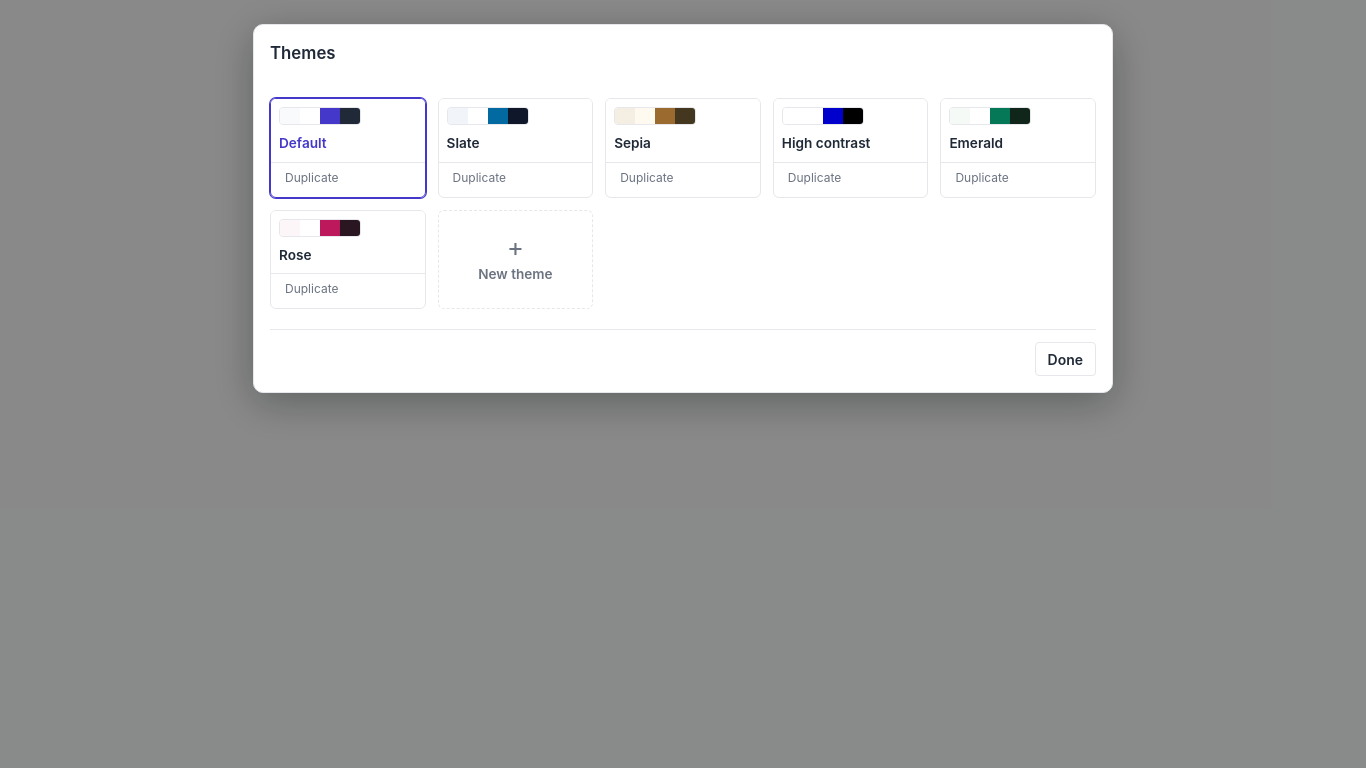
ThemePickerModal › opens the editor when New theme is clicked
The width and height of the screenshot is (1366, 768).
What coordinates should you click on to do the following:
click the button "+ New theme"
I would click on:
 (515, 259)
Its box is x1=438 y1=210 x2=593 y2=309.
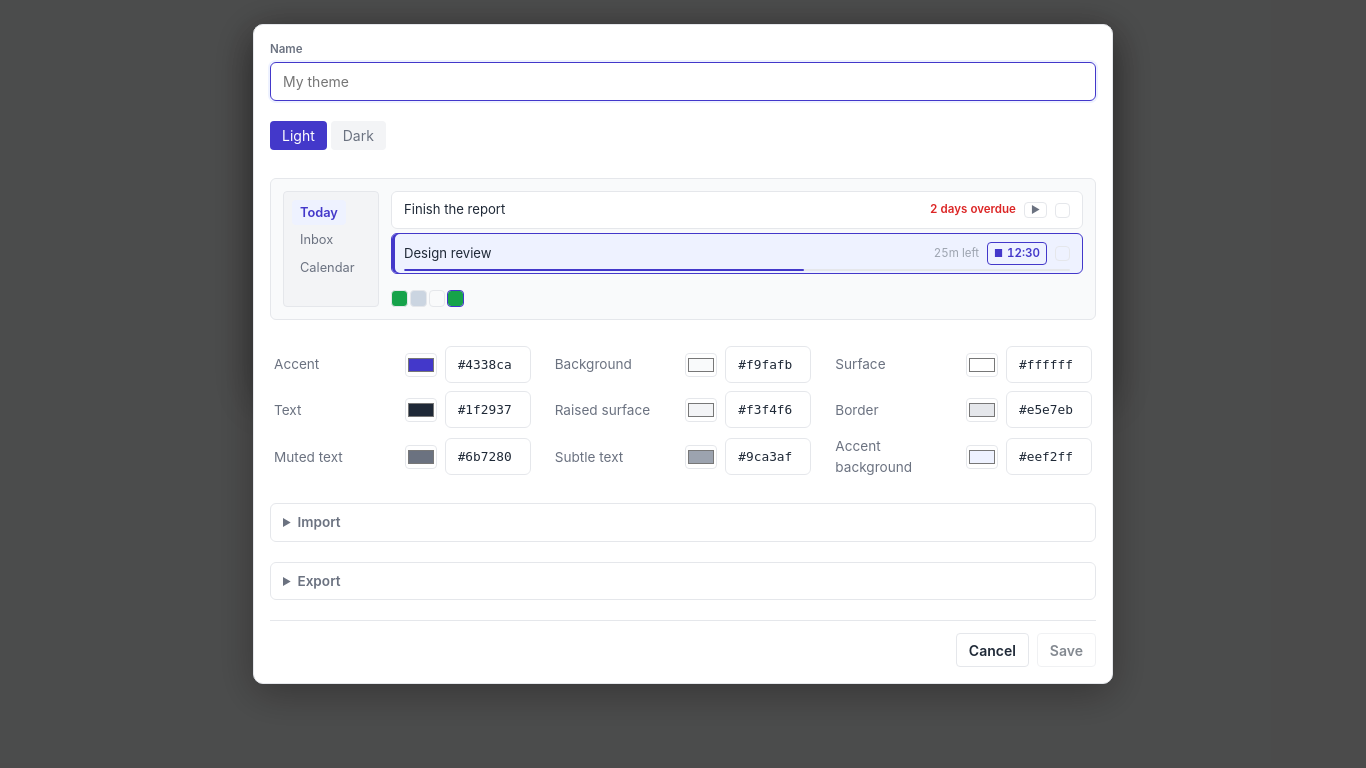
expect the field labelled "Name" is shown: met, box x1=270 y1=62 x2=1096 y2=101
